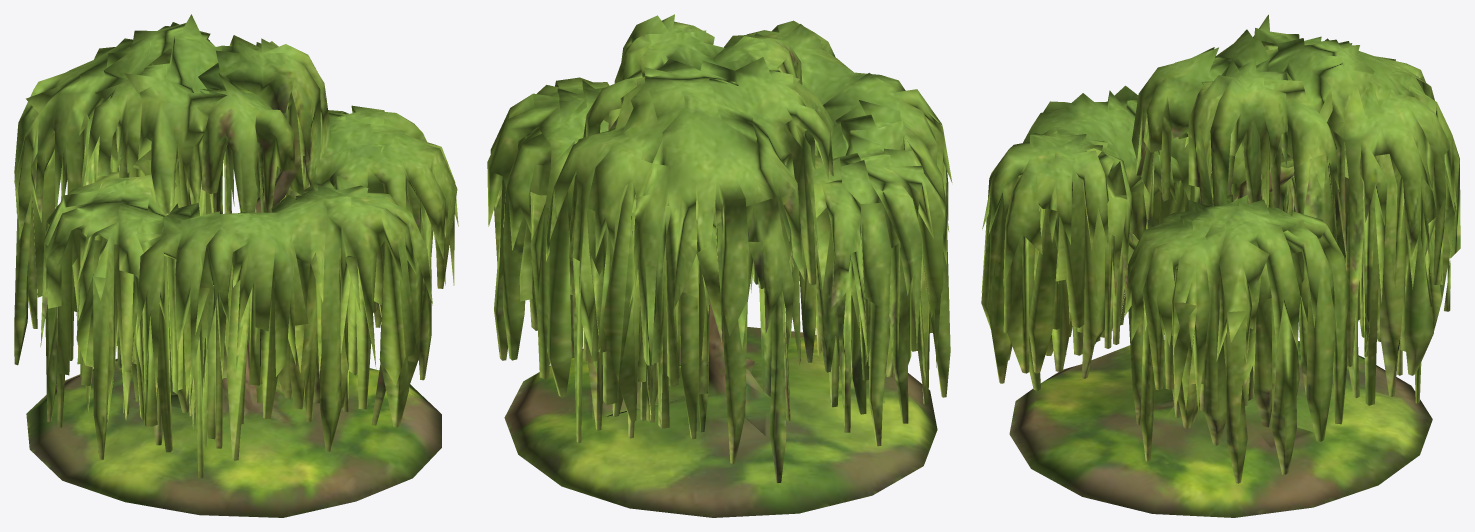
File: Tree_Optimized.fbx
The picture shows the model from 3 angles, left to right: view 1: azimuth 30°, elevation 25°; view 2: azimuth 150°, elevation 25°; view 3: azimuth 270°, elevation 25°; orthographic projection. The views are drawn at different scales.
Parts seen in each view (by area): view 1: Tree_low; view 2: Tree_low; view 3: Tree_low.
Boxes of the visible parts, left/top/right/bottom form: Tree_low: left=14, top=14, right=458, bottom=517; Tree_low: left=487, top=14, right=952, bottom=517; Tree_low: left=981, top=14, right=1460, bottom=517.
Bounding box in the file's own units: 100 × 90.14 × 103.
